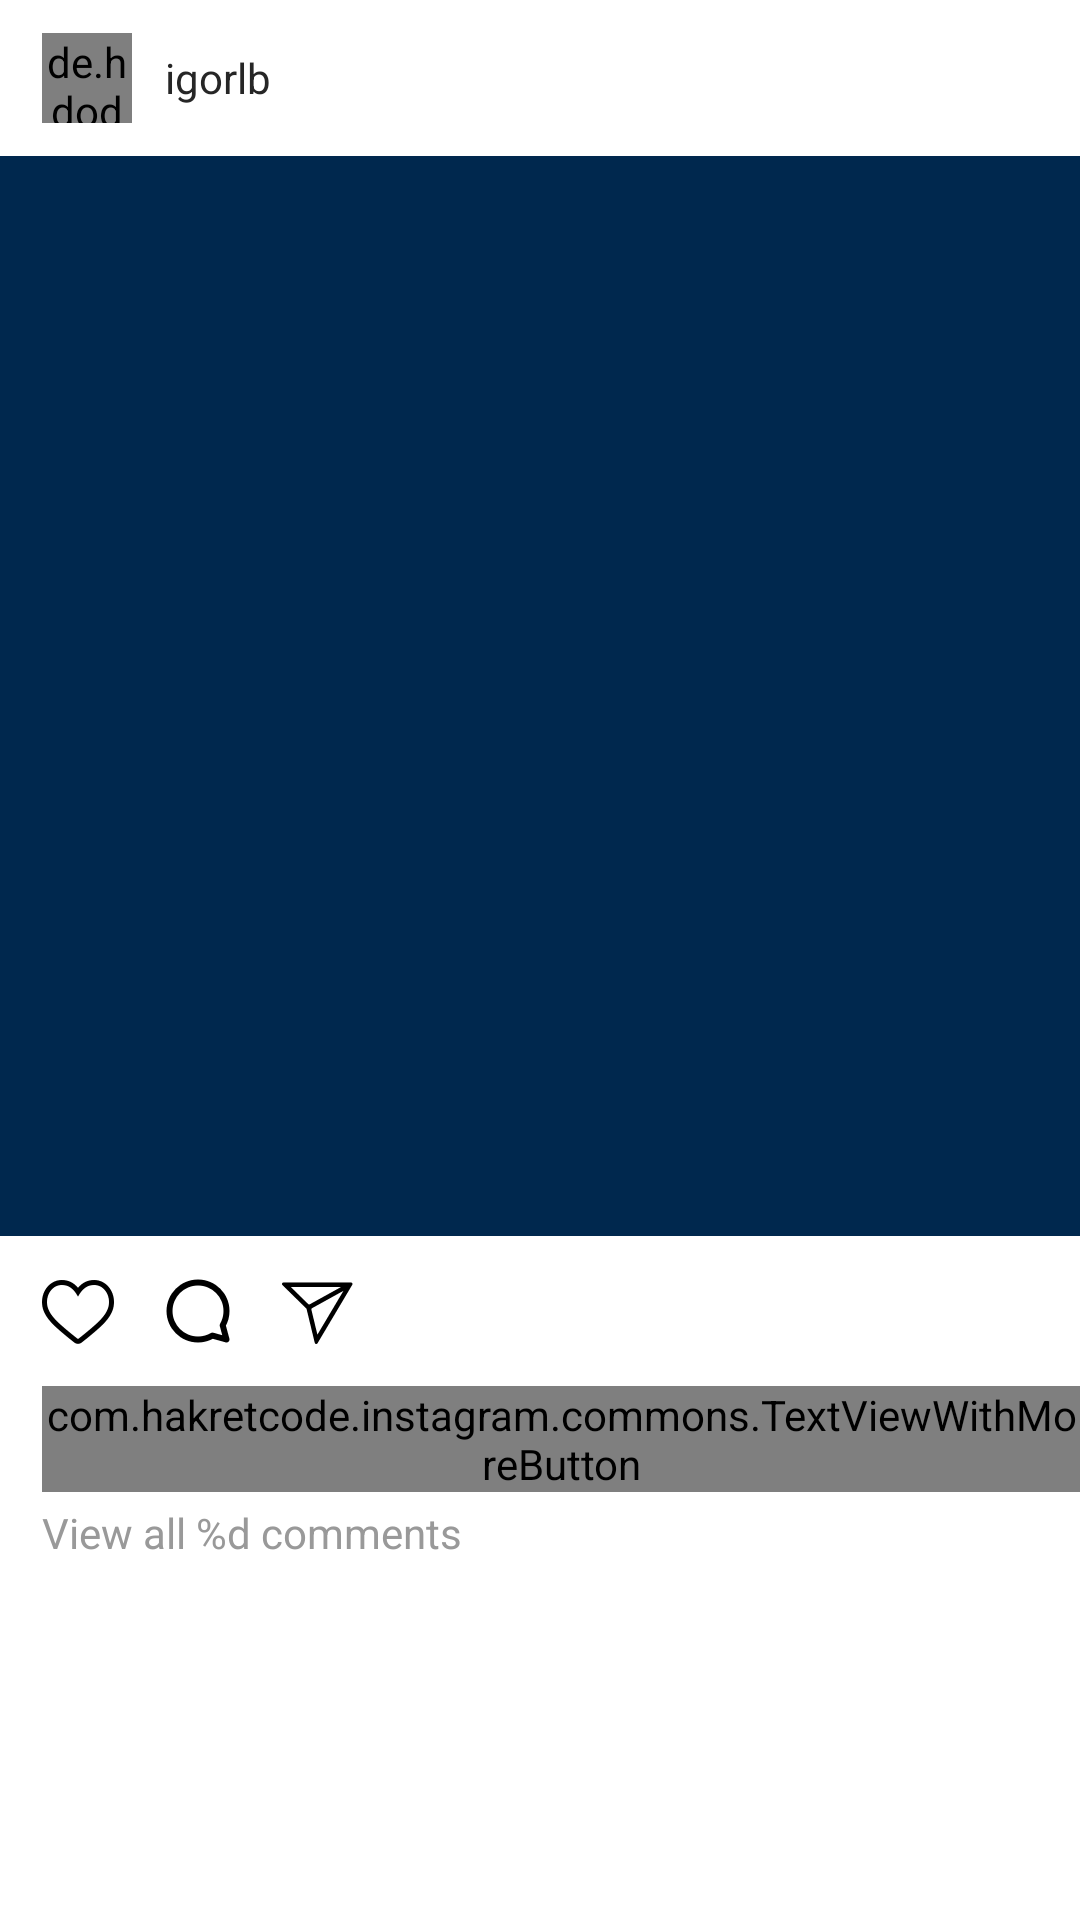

Locate icon controls on the screen. Image size 1080x1920, boxes as box(x1, y1, x2, y2).
forward: box(282, 1282, 353, 1344)
